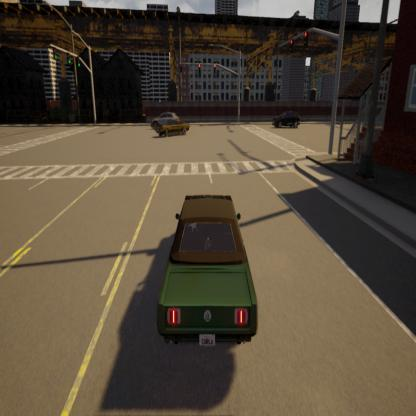Cars: (150, 180, 262, 366), (148, 106, 184, 132), (269, 106, 303, 131), (154, 117, 192, 138)
